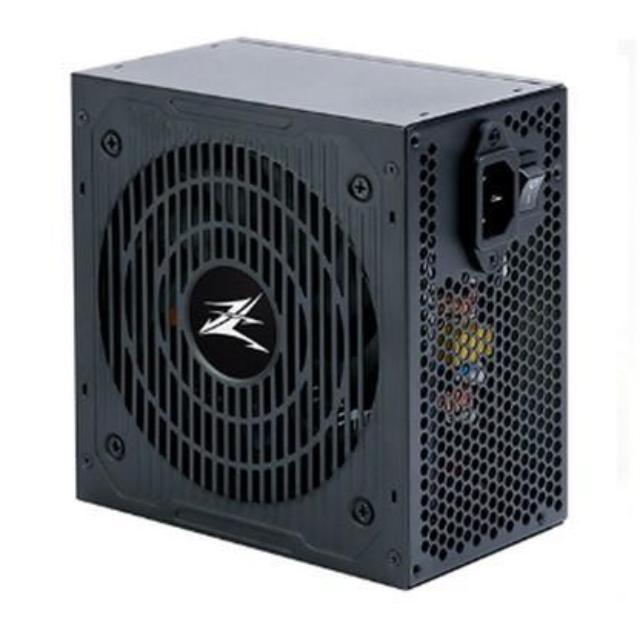PSU: (45, 10, 592, 601)
